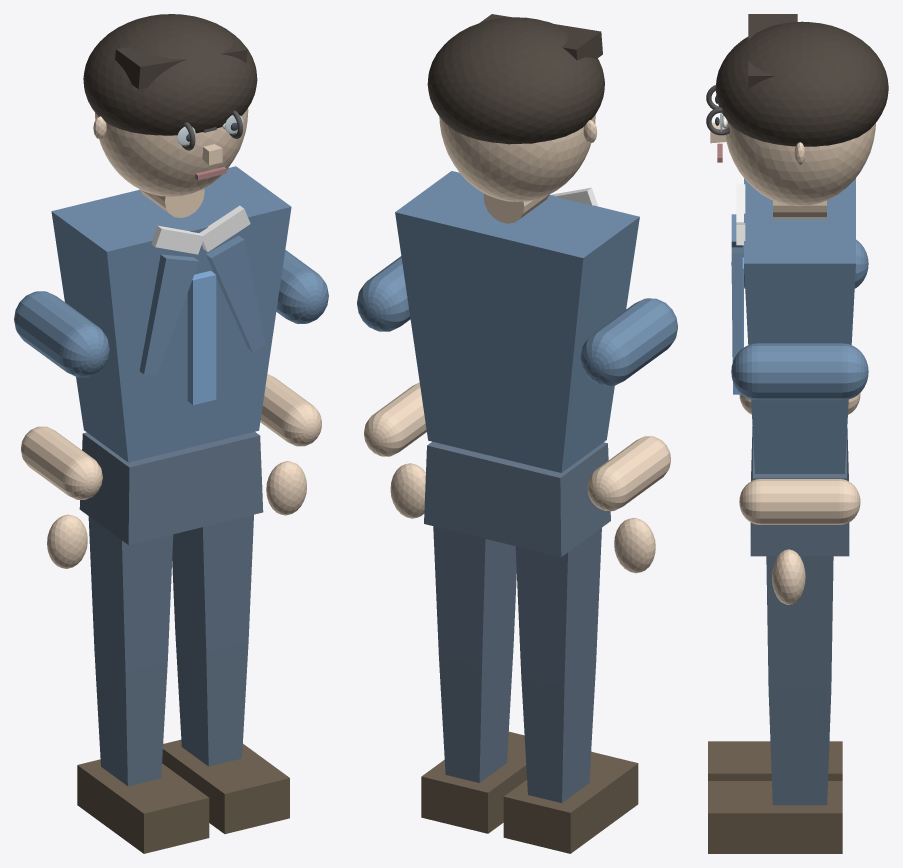
File: npc_exec_male.glb
3 renders of one model, left to right at view 1: azimuth 30°, elevation 25°; view 2: azimuth 150°, elevation 25°; view 3: azimuth 270°, elevation 25°, orthographic.
Parts seen in each view (by area): view 1: Torso, Hair, Hips, Thigh_L, Thigh_R, Shoe_L, Calf_R, Calf_L, Shoe_R, Head, Arm_L_Mesh, Tie (+11 smaller); view 2: Torso, Hair, Hips, Thigh_L, Thigh_R, Calf_L, Calf_R, Shoe_L, Head, Arm_L_Mesh, Shoe_R, Forearm_L_Mesh (+6 smaller); view 3: Torso, Hair, Shoe_R, Thigh_R, Arm_R_Mesh, Head, Calf_R, Forearm_R_Mesh, Hips, Shoe_L, Hand_R_Mesh, Lapel0.1 (+4 smaller).
Boxes of the visible parts, x1,y1,x2,y2 form: Torso: (51, 166, 291, 462); Hair: (83, 14, 257, 135); Hips: (79, 432, 263, 545); Thigh_L: (88, 516, 173, 671); Thigh_R: (172, 514, 253, 652); Shoe_L: (77, 759, 209, 853); Calf_R: (175, 630, 248, 766); Calf_L: (94, 649, 167, 786); Shoe_R: (162, 739, 289, 833); Head: (95, 108, 248, 196); Arm_L_Mesh: (14, 291, 109, 377); Tie: (187, 271, 216, 404); Torso: (395, 171, 639, 472); Hair: (427, 17, 604, 144); Hips: (424, 441, 610, 557); Thigh_L: (515, 528, 601, 686); Thigh_R: (433, 526, 516, 666); Calf_L: (521, 664, 595, 802); Calf_R: (439, 644, 513, 782); Shoe_L: (503, 751, 638, 853); Head: (439, 115, 595, 201); Arm_L_Mesh: (580, 298, 677, 386); Shoe_R: (421, 731, 526, 833); Forearm_L_Mesh: (587, 436, 670, 511); Torso: (744, 178, 855, 473); Hair: (715, 21, 888, 146); Shoe_R: (708, 781, 842, 853); Thigh_R: (766, 556, 833, 689); Arm_R_Mesh: (731, 343, 868, 400); Head: (724, 122, 875, 206); Calf_R: (768, 689, 831, 805); Forearm_R_Mesh: (739, 479, 860, 524); Hips: (750, 426, 849, 556); Shoe_L: (708, 741, 842, 780); Hand_R_Mesh: (772, 549, 805, 604); Lapel0.1: (731, 247, 742, 362).
Size of the model in its own units: 0.6916 by 1.93 by 0.407.
